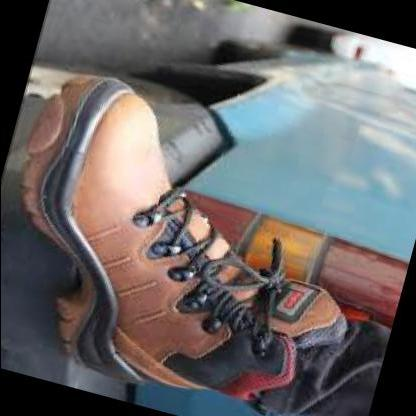safety-shoe: (1, 11, 386, 415)
